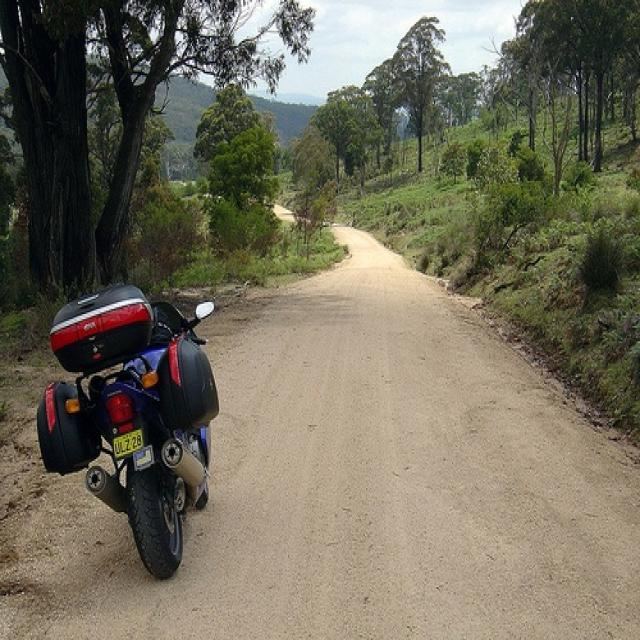motorbike: (36, 283, 239, 579)
